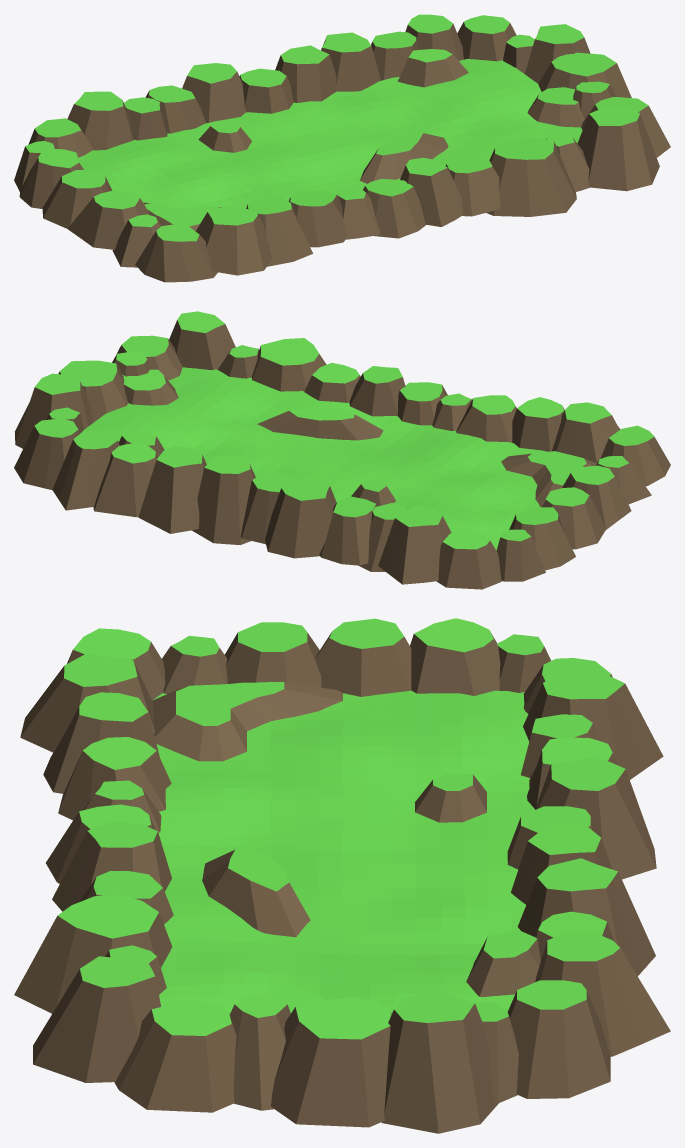
The model's file is RTS_tile_3.glb.
3 renders of one model, top to bottom at view 1: azimuth 30°, elevation 25°; view 2: azimuth 150°, elevation 25°; view 3: azimuth 270°, elevation 25°, orthographic. The views are drawn at different scales.
Parts seen in each view (by area): view 1: Cube.036, Cube.037; view 2: Cube.036, Cube.037; view 3: Cube.036, Cube.037.
Part boxes in pixels (box(x1,y1,x2,y2)): Cube.036: box(14, 14, 670, 282); Cube.037: box(78, 49, 584, 231); Cube.036: box(14, 311, 670, 589); Cube.037: box(80, 367, 596, 550); Cube.036: box(14, 618, 670, 1133); Cube.037: box(152, 682, 540, 1013).
Bounding box in the file's own units: 2.77 × 0.2927 × 1.71.
